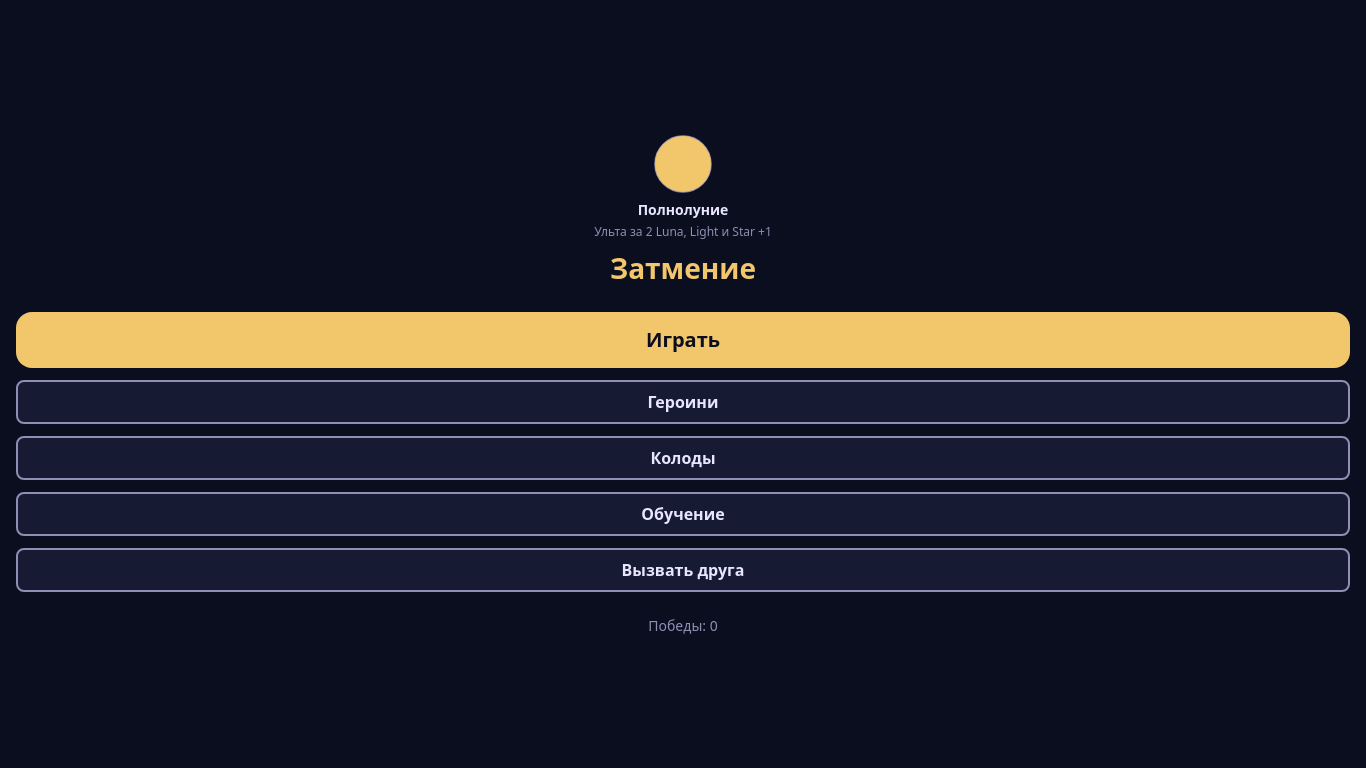
it: «Вызвать друга» в меню › с активной колодой шлёт вызов без ключевого момента
Click the button with test id "invite". click: click(683, 570)
box: [16, 548, 1350, 592]
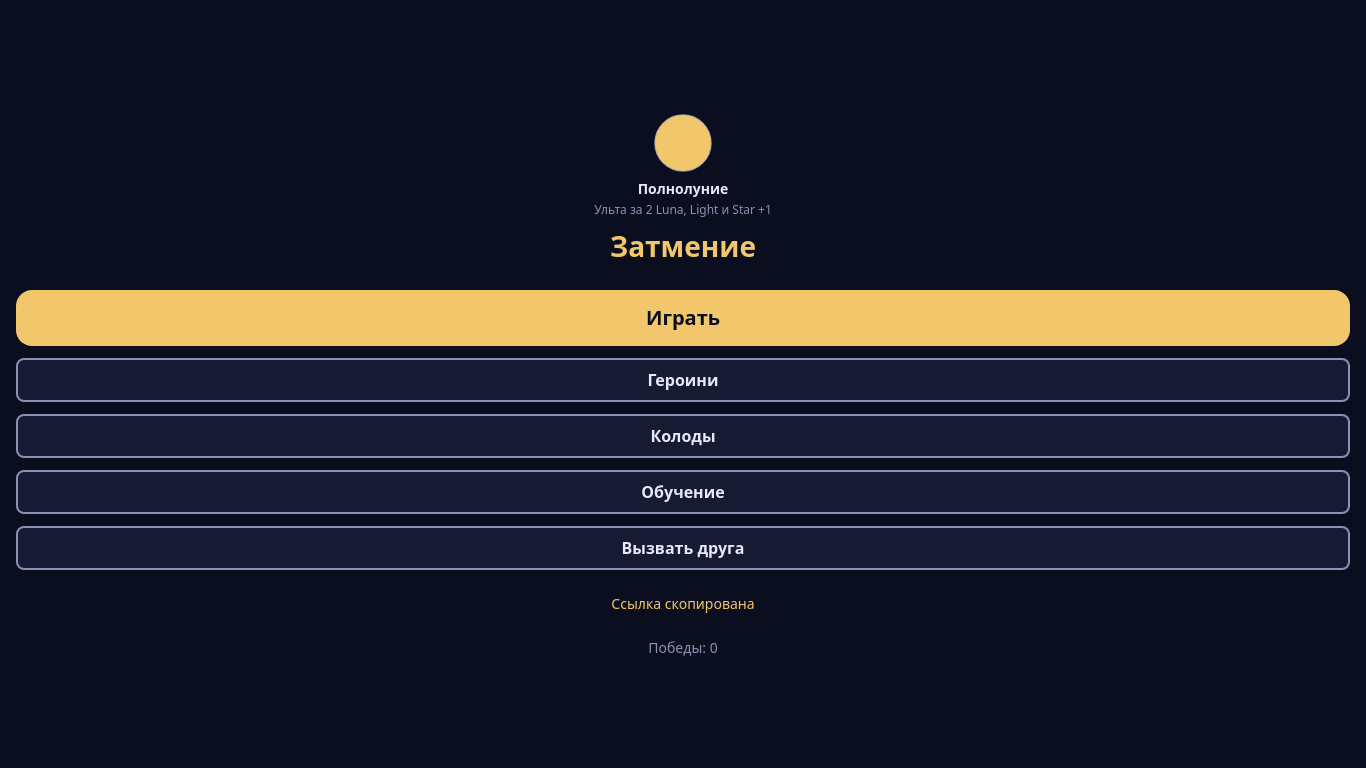
Check: the message reads "Ссылка скопирована", box [611, 594, 755, 613]
